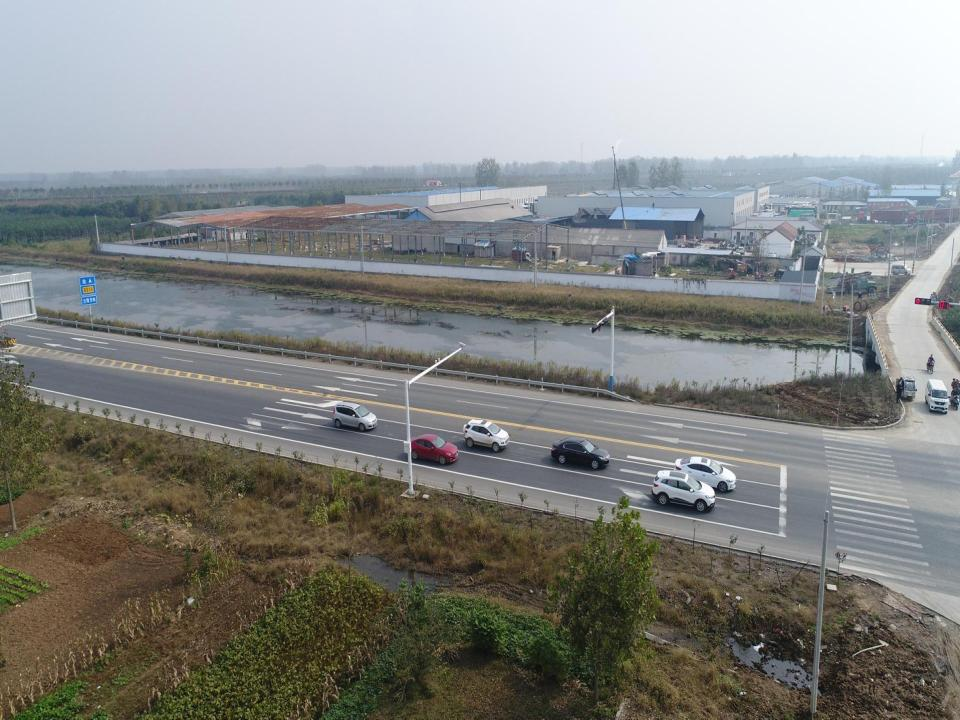car: (651, 471, 715, 511), (672, 455, 736, 491), (551, 436, 609, 470), (407, 433, 458, 465), (462, 421, 510, 451), (331, 402, 377, 431)
truck: (832, 277, 877, 296), (511, 248, 532, 262)
van: (925, 380, 949, 416), (891, 264, 911, 276)
